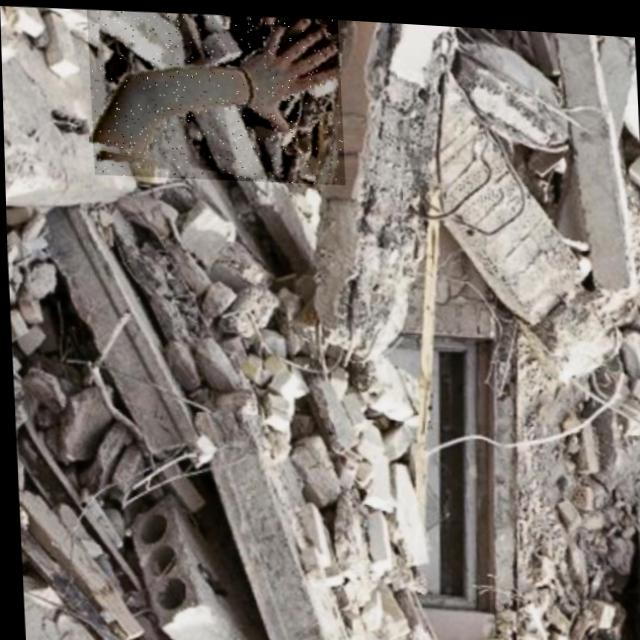Person in Rubble: (85, 4, 343, 185)
